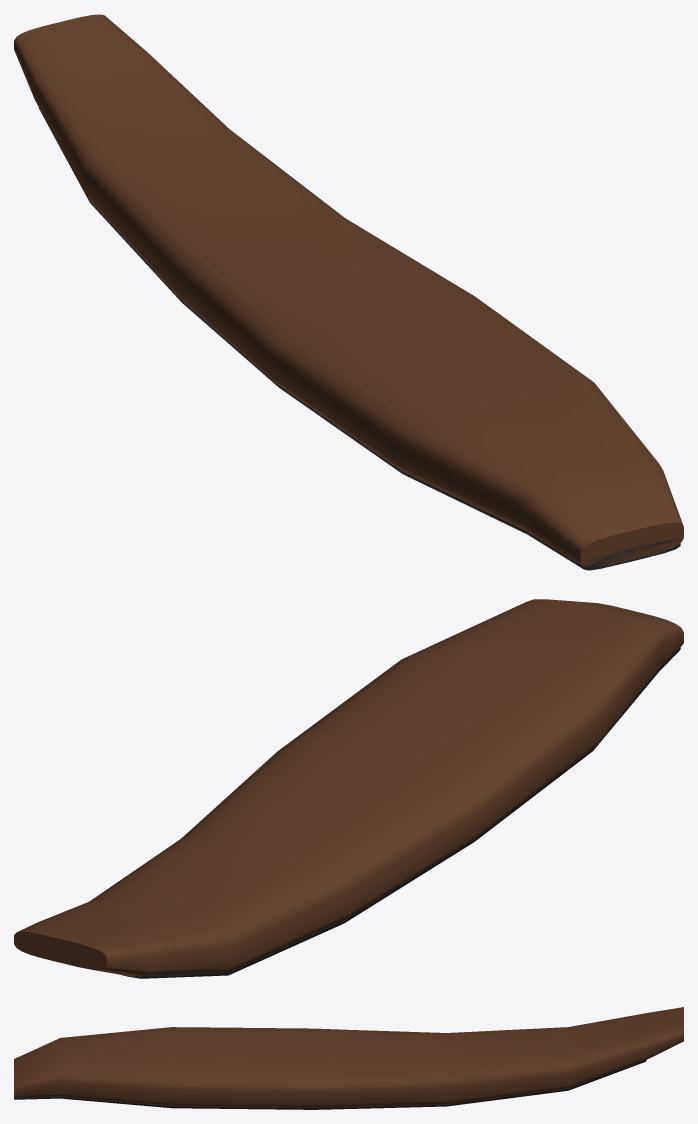
The model's file is SB50-seat-umber.glb.
3 views of the same model, one above another, from view 1: azimuth 30°, elevation 25°; view 2: azimuth 150°, elevation 25°; view 3: azimuth 270°, elevation 25° (orthographic). The views are drawn at different scales.
Visible parts, largest first — view 1: SB50-seat-umber; view 2: SB50-seat-umber; view 3: SB50-seat-umber.
Part boxes in pixels (left/top/right/bottom): SB50-seat-umber: left=14, top=14, right=683, bottom=570; SB50-seat-umber: left=14, top=599, right=683, bottom=978; SB50-seat-umber: left=14, top=1007, right=683, bottom=1109.
Bounding box in the file's own units: 0.1649 × 0.0912 × 0.782.
